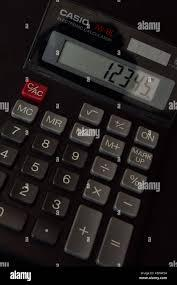Calculator: (0, 1, 177, 284)
